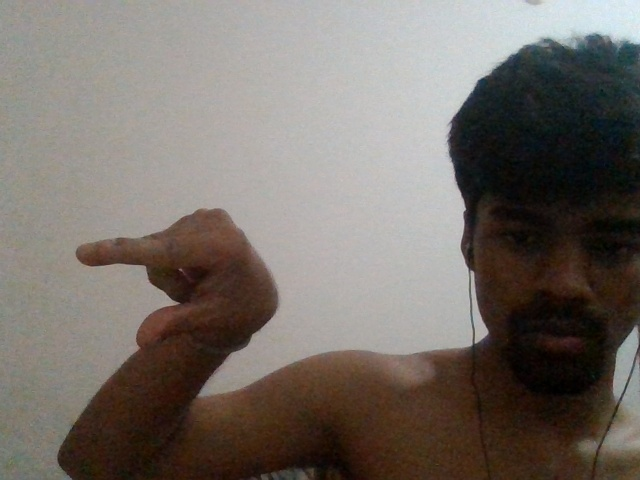No: (59, 196, 292, 357)
